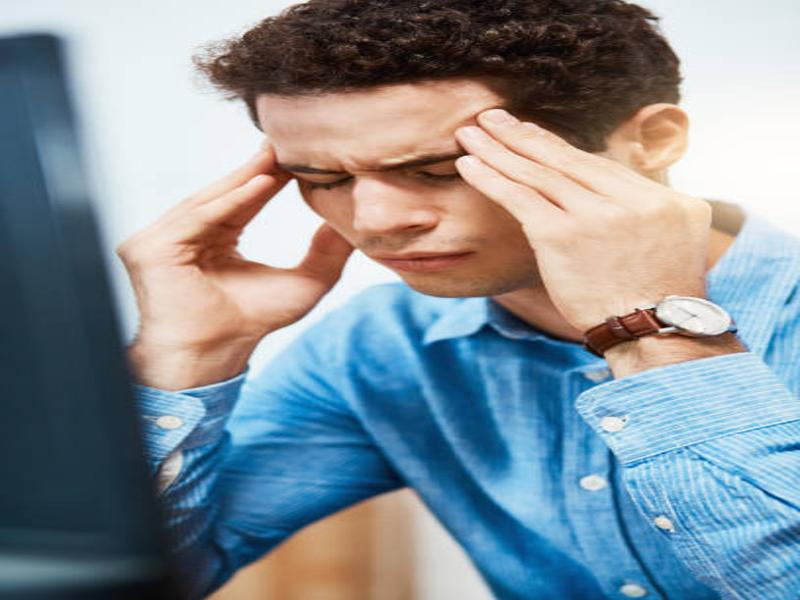watch: (574, 294, 740, 355)
